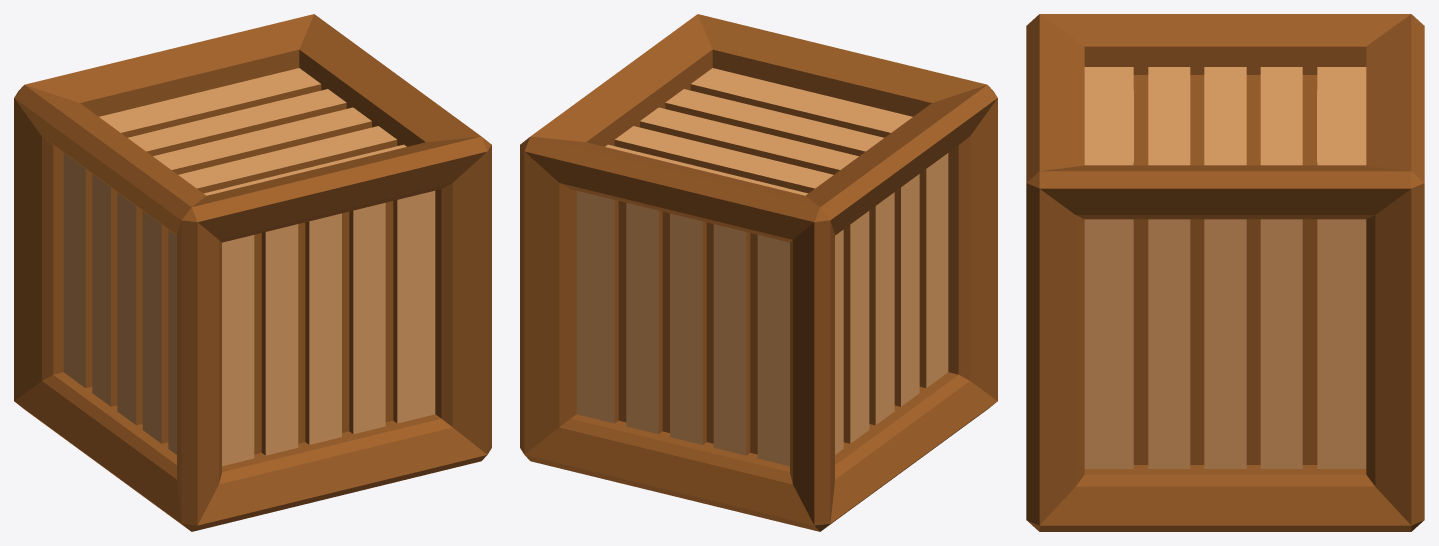
The picture shows the model from 3 angles, left to right: view 1: azimuth 30°, elevation 25°; view 2: azimuth 150°, elevation 25°; view 3: azimuth 270°, elevation 25°; orthographic projection. The views are drawn at different scales.
Parts seen in each view (by area): view 1: Box C; view 2: Box C; view 3: Box C.
Boxes of the visible parts, x1=… form: Box C: x1=14, y1=14, x2=491, y2=531; Box C: x1=520, y1=14, x2=997, y2=531; Box C: x1=1026, y1=14, x2=1424, y2=531.
Size of the model in its own units: 216 by 216 by 216.
